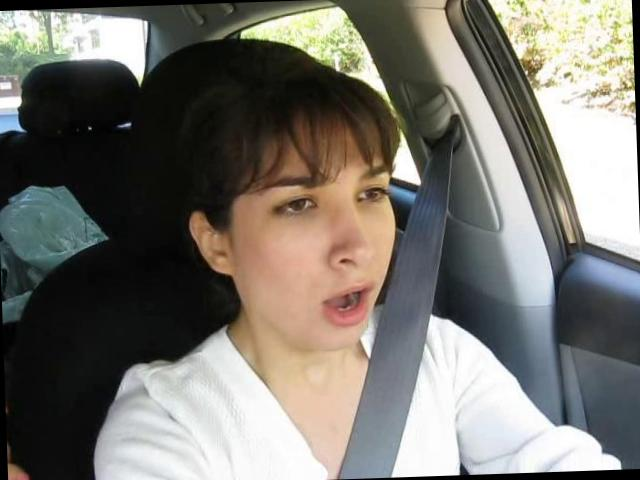eye_open: (266, 188, 324, 223), (355, 180, 392, 210)
face: (244, 158, 406, 356)
mouth_open: (313, 276, 380, 328)
